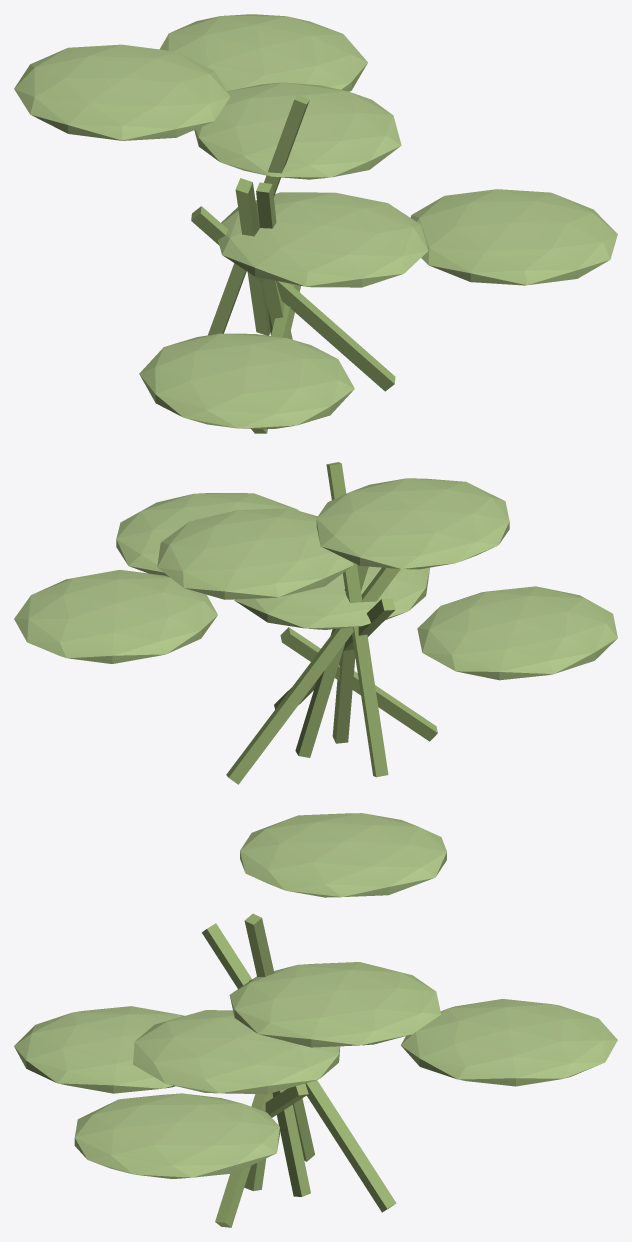
The model's file is bougainvillea-spectabilis.glb.
3 renders of one model, top to bottom at view 1: azimuth 30°, elevation 25°; view 2: azimuth 150°, elevation 25°; view 3: azimuth 270°, elevation 25°, orthographic. The views are drawn at different scales.
Parts seen in each view (by area): view 1: leaf2, leaf3, leaf4, leaf0, leaf1, leaf5, runner4, runner2, runner5, runner1, runner0, runner3; view 2: leaf3, leaf2, leaf5, leaf1, leaf0, leaf4, runner5, runner2, runner3, runner1, runner0, runner4; view 3: leaf4, leaf2, leaf1, leaf5, leaf0, leaf3, runner5, runner2, runner1, runner4, runner3.
Boxes of the visible parts, left/top/right/bottom form: leaf2: left=14, top=44, right=230, bottom=140; leaf3: left=139, top=333, right=354, bottom=428; leaf4: left=410, top=189, right=617, bottom=285; leaf0: left=218, top=192, right=428, bottom=287; leaf1: left=194, top=82, right=401, bottom=179; leaf5: left=159, top=14, right=367, bottom=91; runner4: left=191, top=206, right=395, bottom=391; runner2: left=208, top=95, right=309, bottom=335; runner5: left=235, top=178, right=270, bottom=335; runner1: left=256, top=182, right=276, bottom=334; runner0: left=262, top=279, right=292, bottom=339; runner3: left=251, top=283, right=300, bottom=433; leaf3: left=417, top=586, right=617, bottom=680; leaf2: left=316, top=478, right=509, bottom=569; leaf5: left=14, top=570, right=217, bottom=663; leaf1: left=157, top=508, right=353, bottom=599; leaf0: left=234, top=566, right=429, bottom=629; leaf4: left=116, top=493, right=298, bottom=576; runner5: left=226, top=567, right=400, bottom=784; runner2: left=326, top=462, right=388, bottom=777; runner3: left=280, top=627, right=437, bottom=741; runner1: left=295, top=564, right=368, bottom=757; runner0: left=332, top=643, right=355, bottom=743; runner4: left=274, top=598, right=395, bottom=709; leaf4: left=74, top=1093, right=279, bottom=1178; leaf2: left=240, top=813, right=446, bottom=897; leaf1: left=229, top=962, right=441, bottom=1047; leaf5: left=401, top=999, right=617, bottom=1086; leaf0: left=133, top=1010, right=340, bottom=1094; leaf3: left=14, top=1006, right=184, bottom=1093; runner5: left=202, top=923, right=396, bottom=1212; runner2: left=244, top=913, right=314, bottom=1161; runner1: left=249, top=979, right=310, bottom=1196; runner4: left=215, top=1093, right=272, bottom=1227; runner3: left=265, top=1083, right=308, bottom=1117.
Size of the model in its own units: 0.5276 by 0.3286 by 0.6103.
